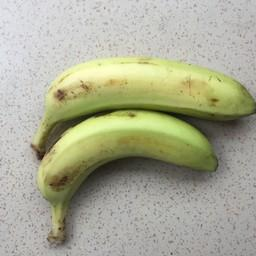Good_banana: (32, 108, 225, 201), (28, 51, 255, 121)
